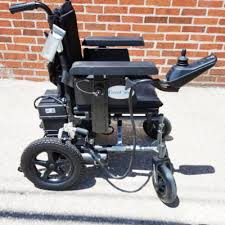wheelchair: (10, 6, 215, 200)
